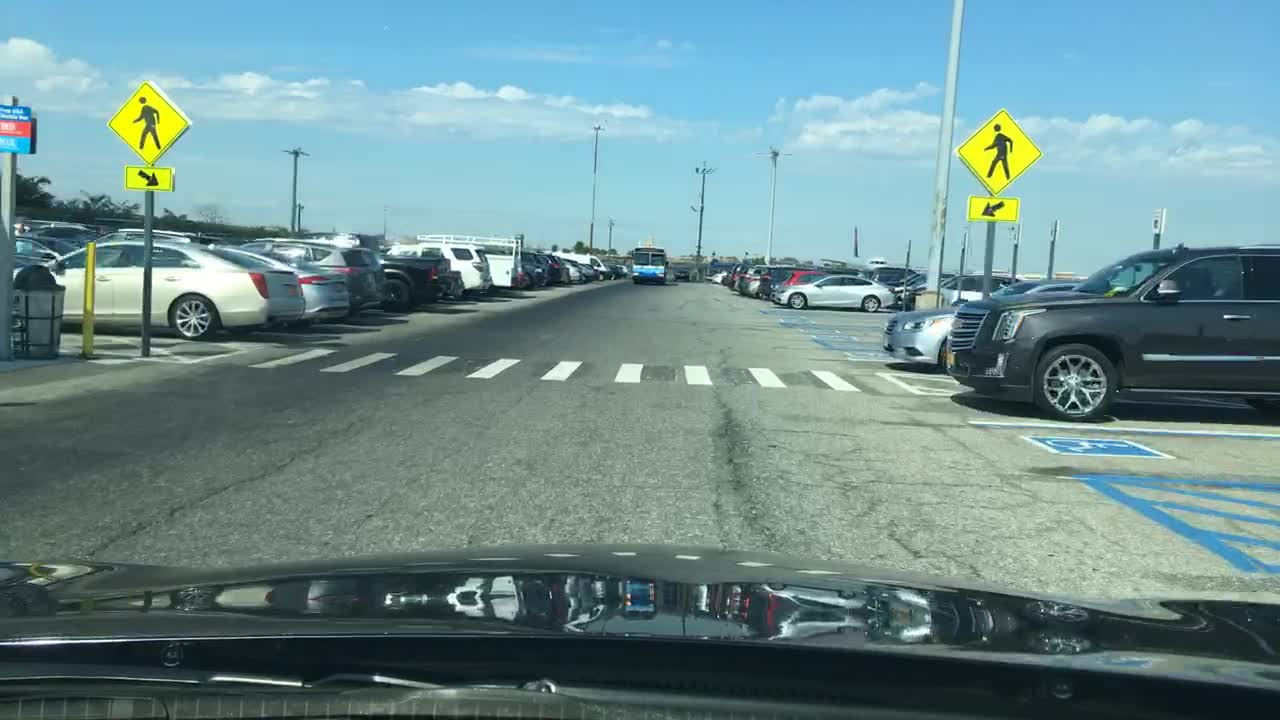bus: (629, 245, 668, 284)
car: (945, 240, 1276, 423), (12, 234, 271, 342), (880, 278, 1088, 373), (226, 233, 392, 332), (298, 230, 454, 311), (894, 274, 1023, 312), (773, 273, 897, 312), (416, 241, 494, 299), (731, 264, 806, 298), (767, 268, 831, 303), (509, 248, 560, 287), (547, 248, 610, 278), (120, 226, 214, 245), (12, 238, 63, 271), (533, 253, 583, 286), (881, 268, 957, 288), (36, 221, 108, 242), (562, 257, 602, 284), (722, 262, 758, 288), (857, 265, 918, 279), (713, 262, 735, 279), (605, 260, 620, 277), (673, 268, 692, 281), (861, 258, 888, 265), (614, 262, 629, 274), (704, 264, 714, 282)
traffic sign: (953, 110, 1043, 189), (107, 78, 189, 164), (0, 100, 34, 151), (966, 194, 1020, 222), (125, 164, 173, 191), (1152, 209, 1166, 239)
truck: (408, 232, 528, 295)
